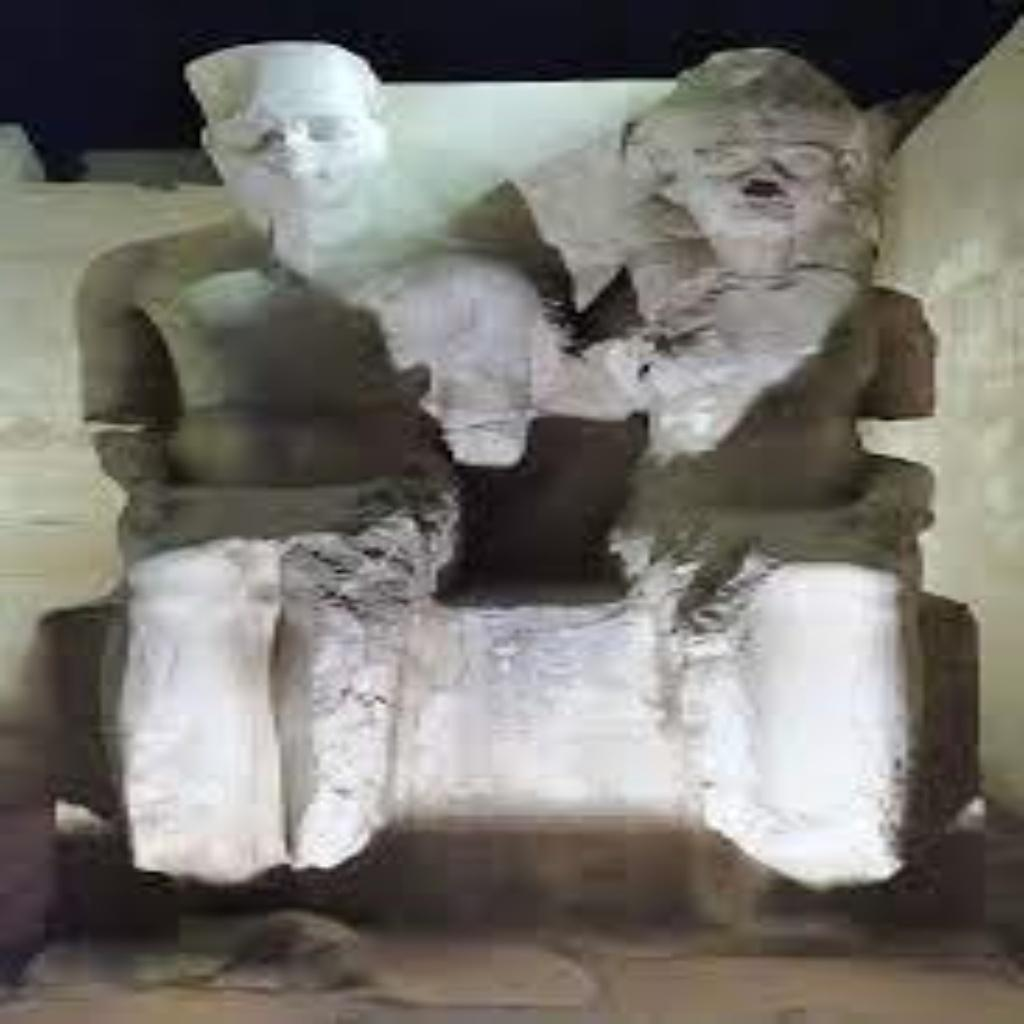Statue of Ankhesenamun: (557, 38, 969, 896)
Statue of Tutankhamun: (72, 32, 542, 880)
